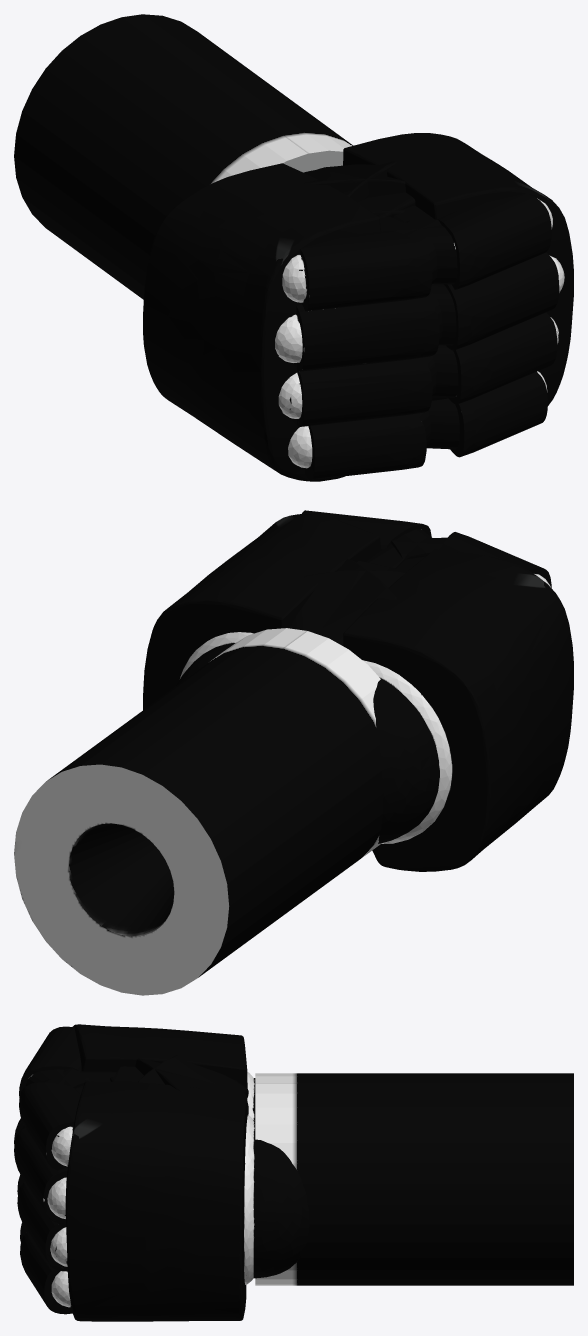
The model's file is BigFist2.obj.
3 renders of one model, top to bottom at view 1: azimuth 30°, elevation 25°; view 2: azimuth 150°, elevation 25°; view 3: azimuth 270°, elevation 25°, orthographic. The views are drawn at different scales.
Visible parts, largest first — view 1: t_hand_-__1.001, 圓柱體, t_hand_-__1; view 2: 圓柱體, t_hand_-__1.001, t_hand_-__1; view 3: t_hand_-__1, 圓柱體, t_hand_-__1.001.
Boxes of the visible parts, x1,y1,x2,y2 form: t_hand_-__1.001: [143, 161, 442, 481]; 圓柱體: [14, 14, 353, 299]; t_hand_-__1: [303, 133, 573, 457]; 圓柱體: [14, 628, 383, 995]; t_hand_-__1.001: [291, 532, 573, 871]; t_hand_-__1: [143, 510, 439, 709]; t_hand_-__1: [14, 1053, 309, 1321]; 圓柱體: [255, 1073, 573, 1285]; t_hand_-__1.001: [14, 1024, 255, 1241].
Bounding box in the file's own units: 2.06 × 1.43 × 3.36.
3 materials, 3 textured.
